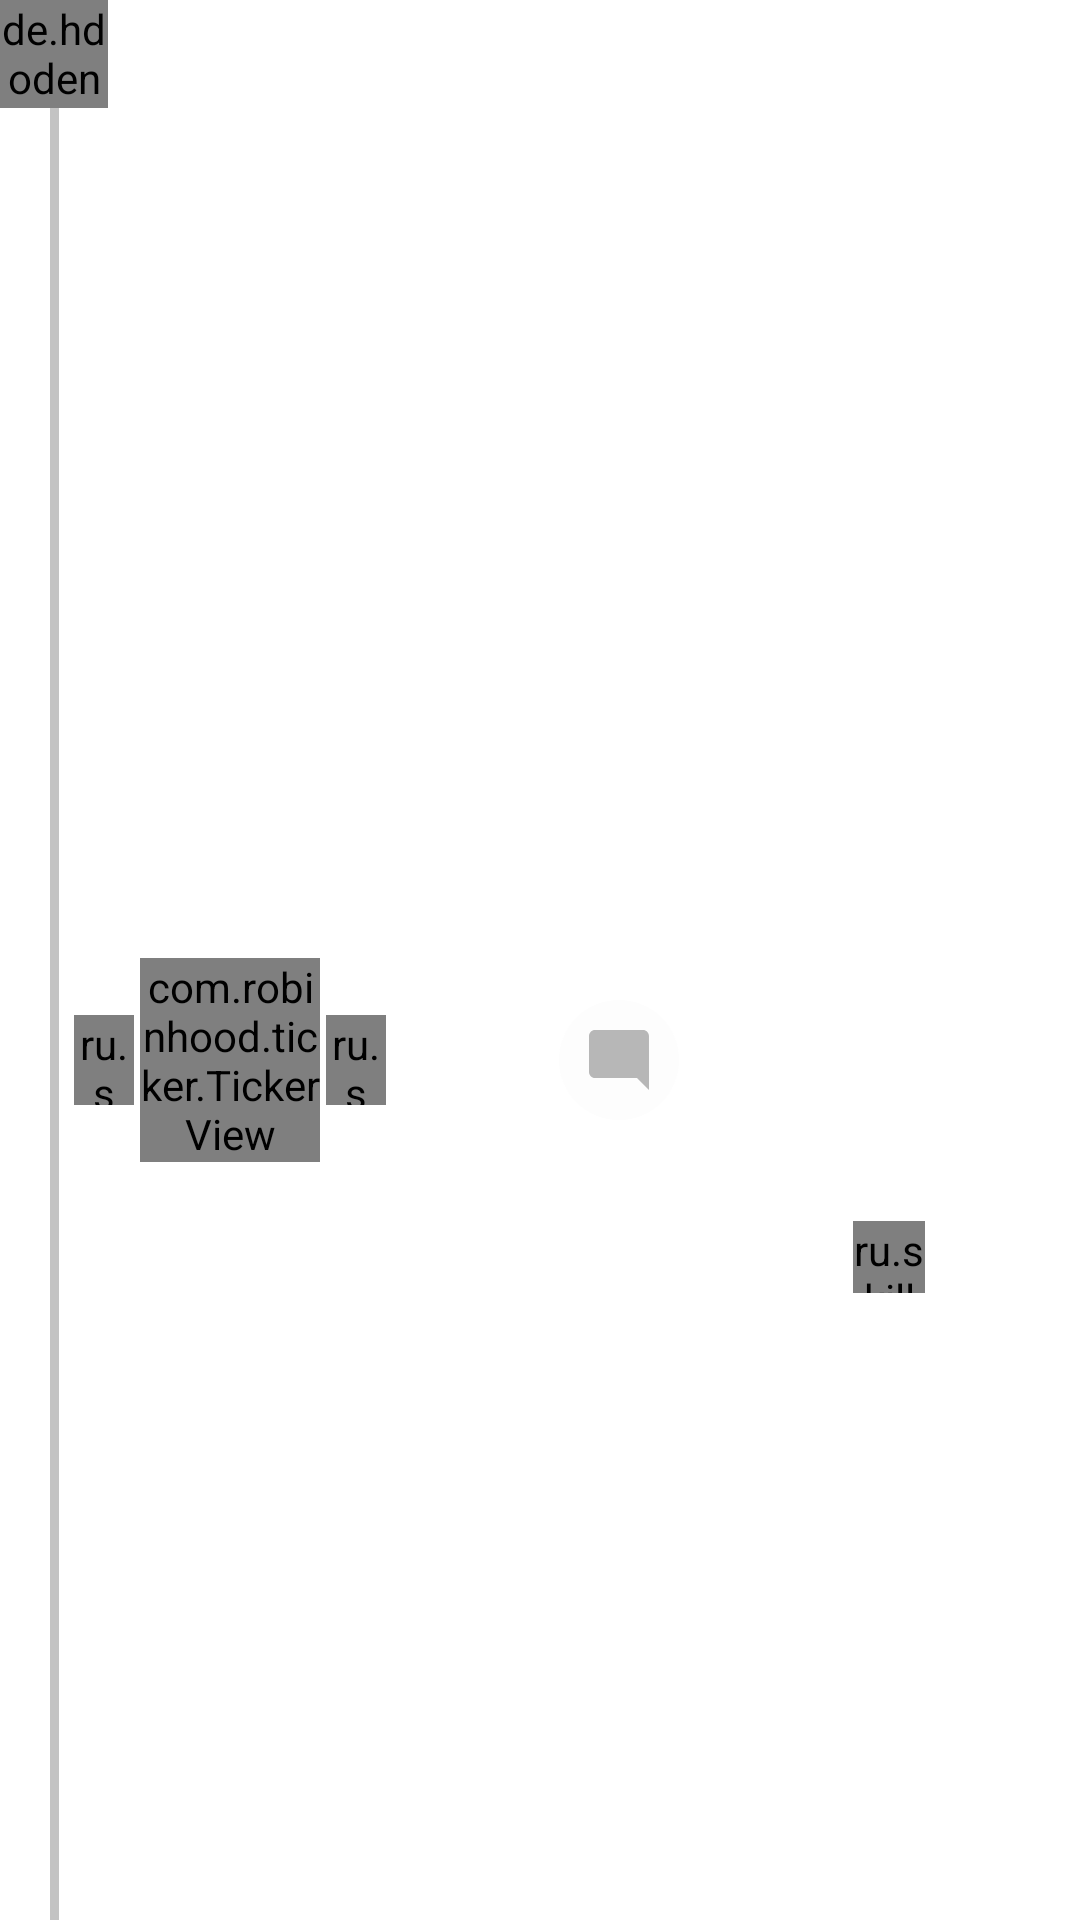

Icon click points for this 1080 x 1920 phone screenshot, format point (x, y):
Reply: point (619, 1060)
